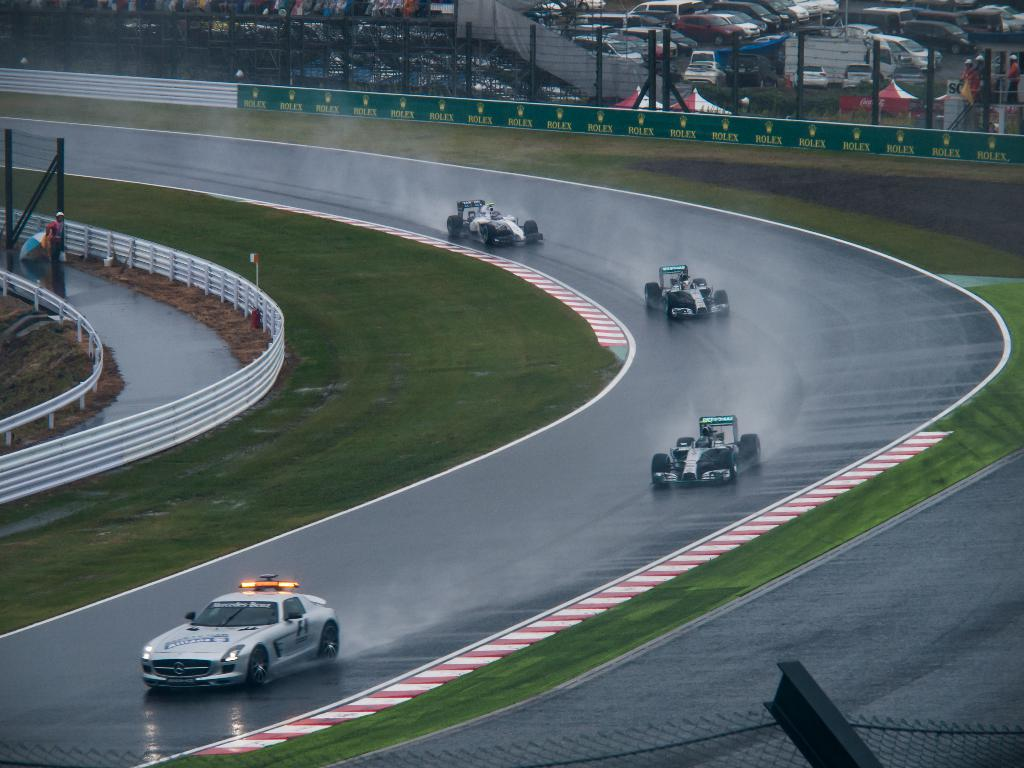Car: (139, 581, 336, 702), (647, 414, 756, 490), (640, 259, 730, 328), (444, 196, 541, 250)
